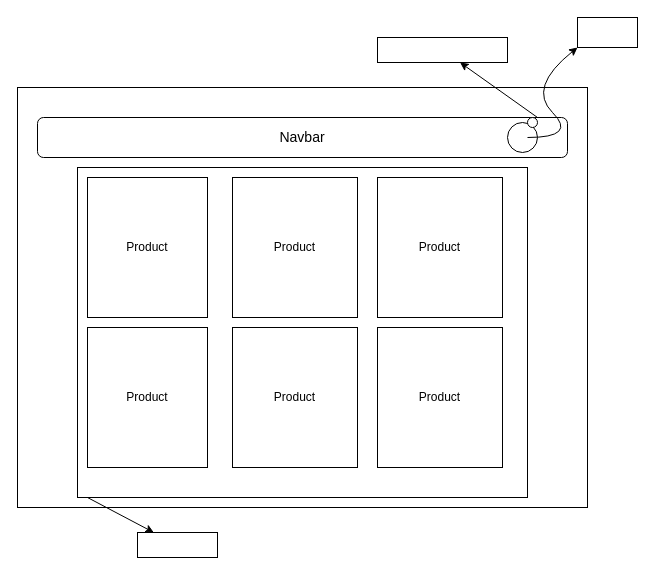
Some shapes in this 655 by 575 pixel diagram are drawn without their labels. The shapes that lost their labels are listed below. From the top down, each one's centre as x and y in pixels, then its label:
At (x=442, y=49): "Notification".
At (x=607, y=32): "Cart".
At (x=177, y=545): "Stock".
